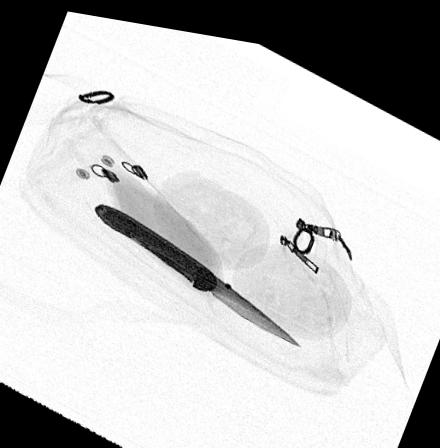Knife: (91, 199, 306, 339)
